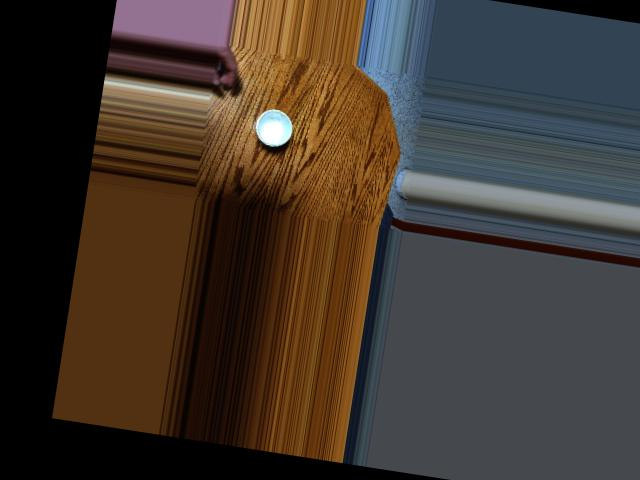cotage: (250, 103, 298, 149)
